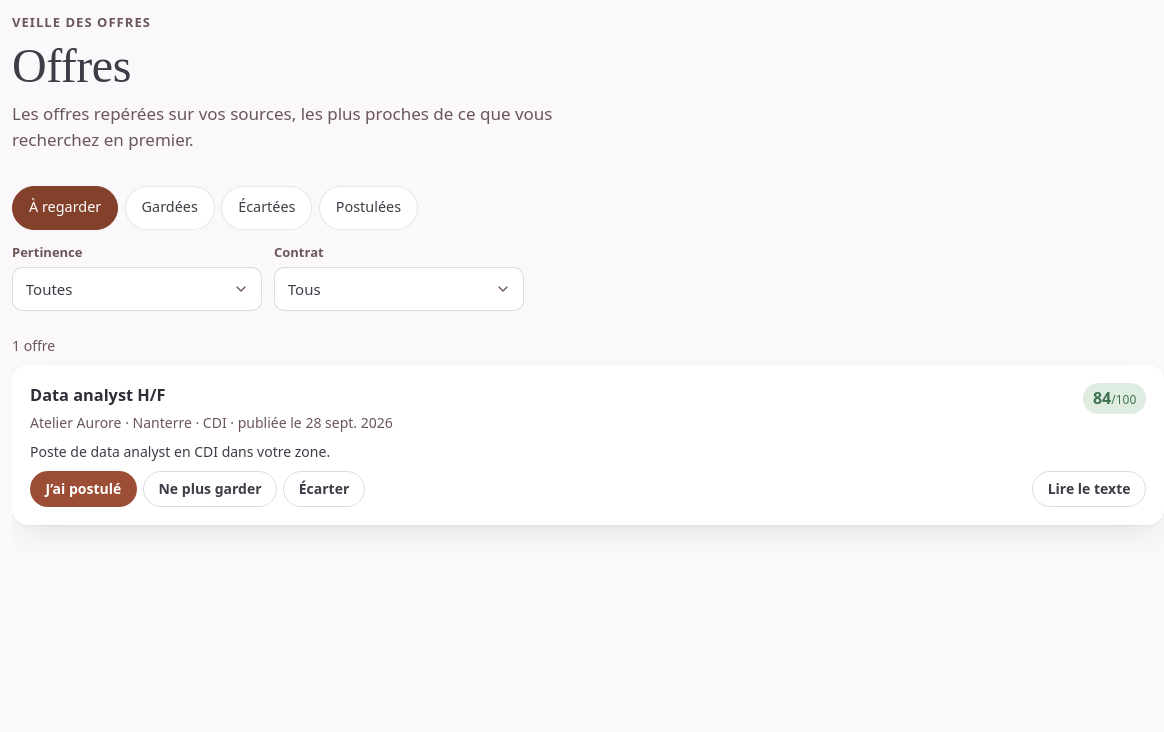
Test case: OffersPage › [EF-VEI-19] [EF-VEI-20] turns an offer into an application, and says where to follow it
What coordinates should you click on to do the following:
click the button "Gardées"
I would click on:
 (170, 208)
Its box is 125,186 -> 215,230.
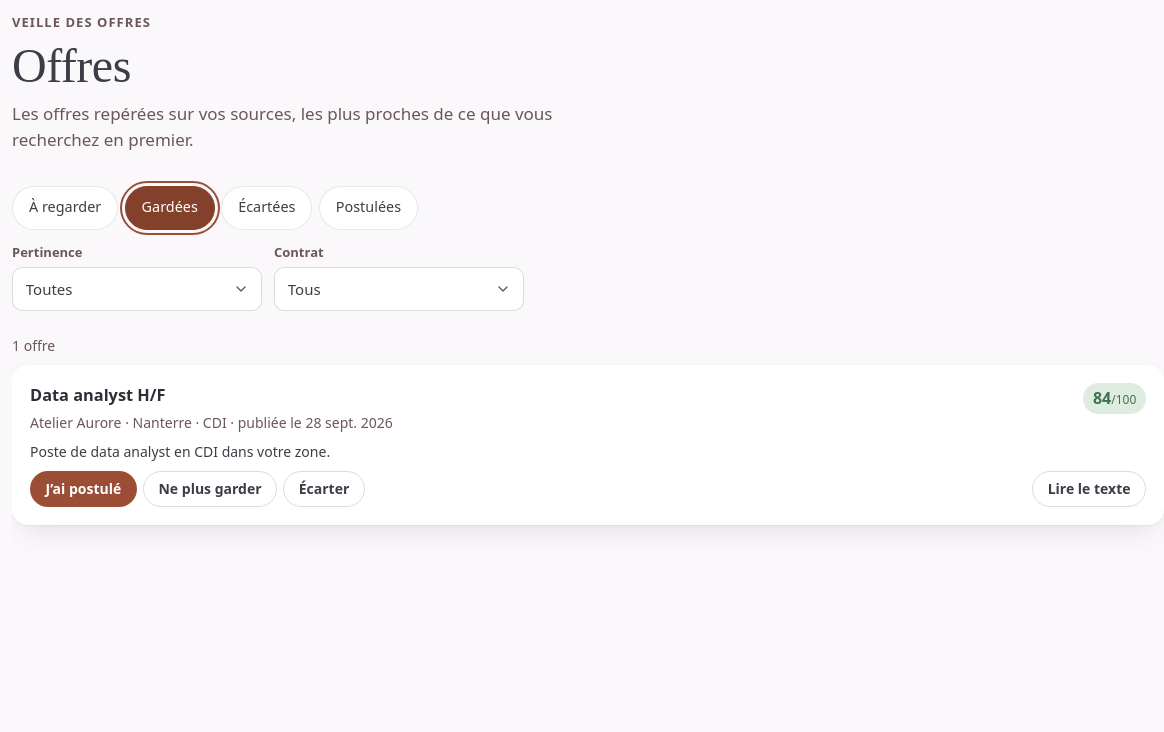
What coordinates should you click on to do the following:
click the button "J’ai postulé"
I would click on:
 (83, 489)
Its box is 30,471 -> 137,507.
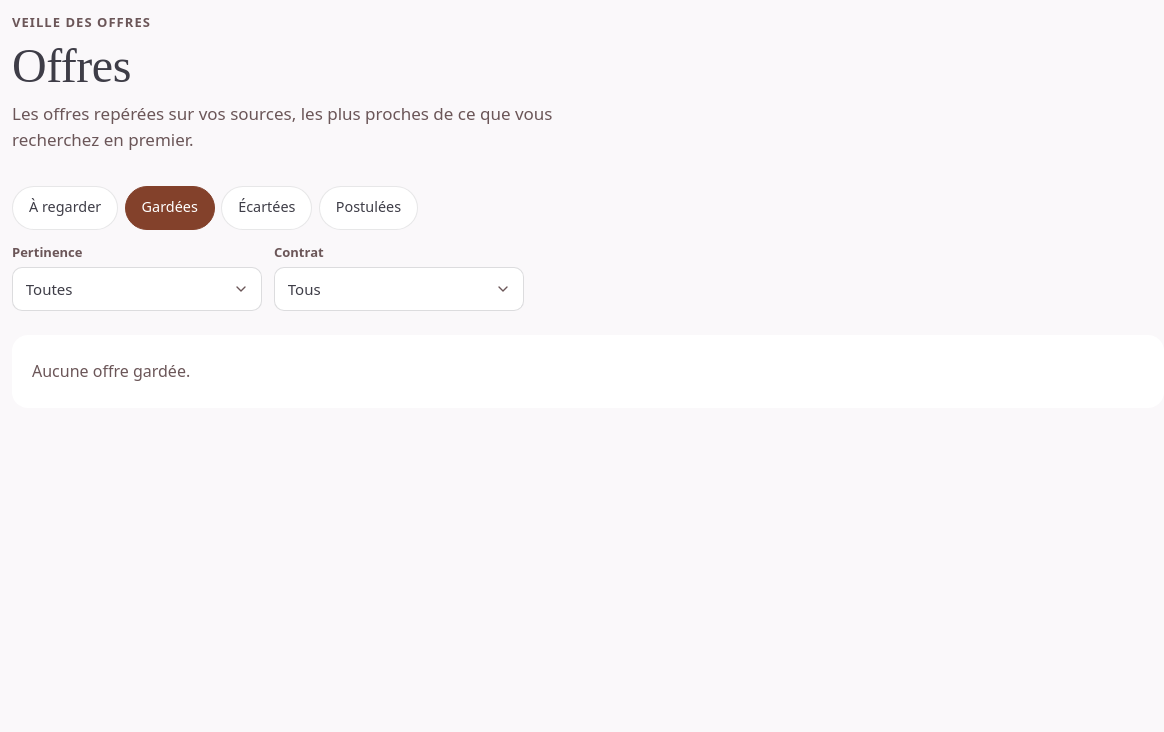
Result: the text "Aucune offre gardée." is shown at 32,360 -> 190,382
